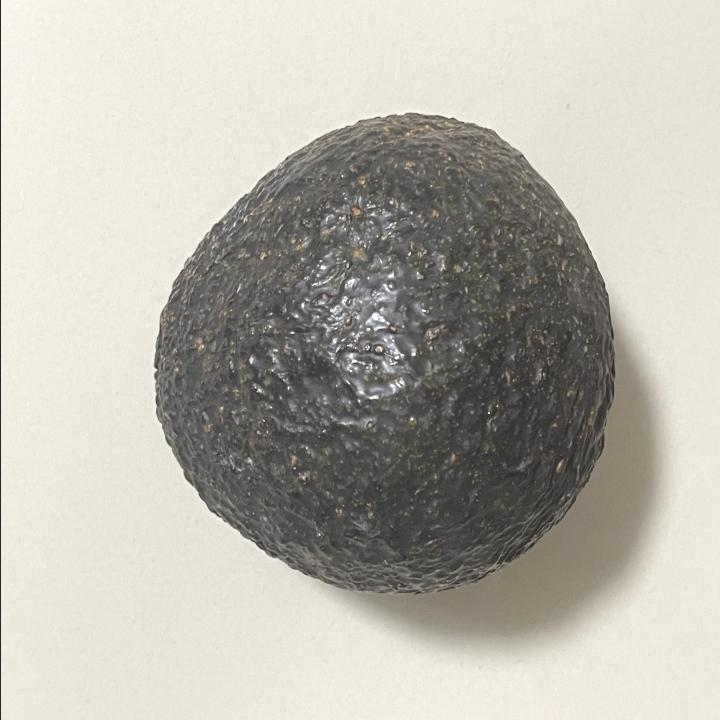Level2: (144, 112, 620, 604)
